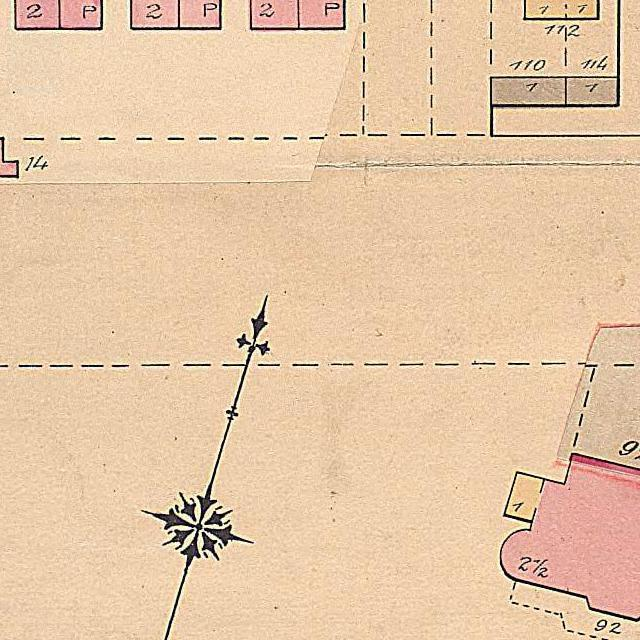building-footprints: (501, 454, 640, 621), (491, 77, 567, 105), (566, 77, 619, 105)
